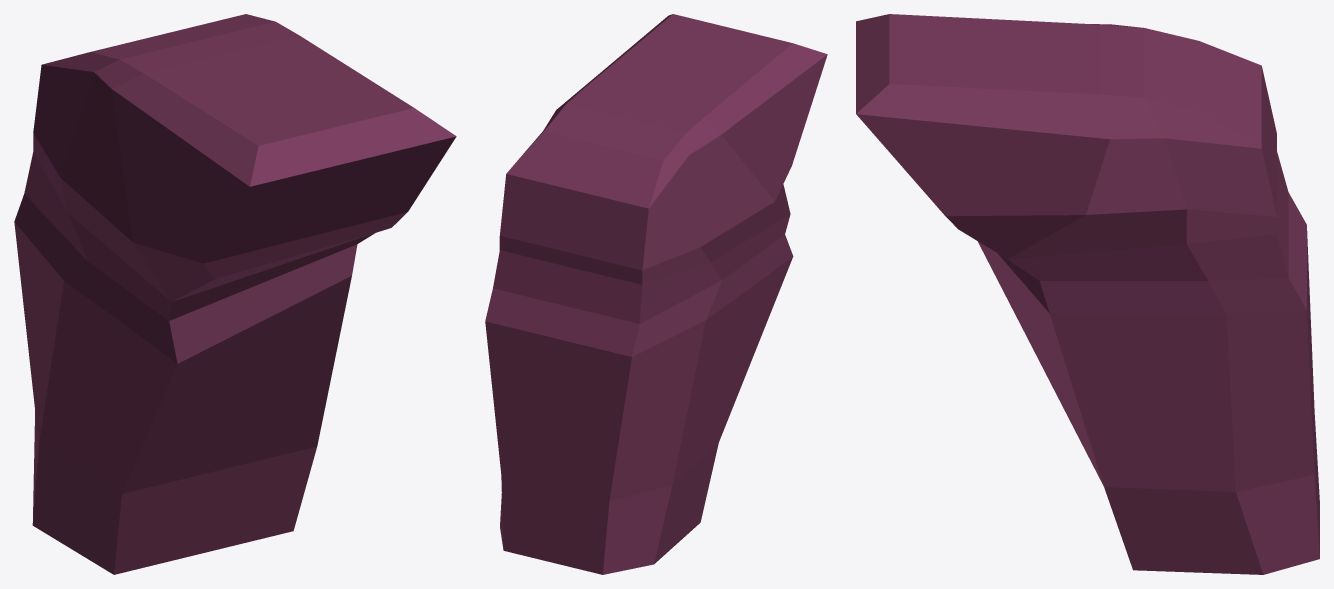
The model's file is hidarikata.obj.
3 views of the same model, side by side, from view 1: azimuth 30°, elevation 25°; view 2: azimuth 150°, elevation 25°; view 3: azimuth 270°, elevation 25° (orthographic). The views are drawn at different scales.
Visible parts, largest first — view 1: pCube2 pCube3; view 2: pCube2 pCube3; view 3: pCube2 pCube3.
Boxes of the visible parts, box(x1,y1,x2,y2) form: pCube2 pCube3: box(14, 14, 456, 574); pCube2 pCube3: box(485, 14, 827, 574); pCube2 pCube3: box(856, 14, 1319, 574).
Bounding box in the file's own units: 0.4721 × 0.9307 × 0.813.
1 material, 1 textured.
